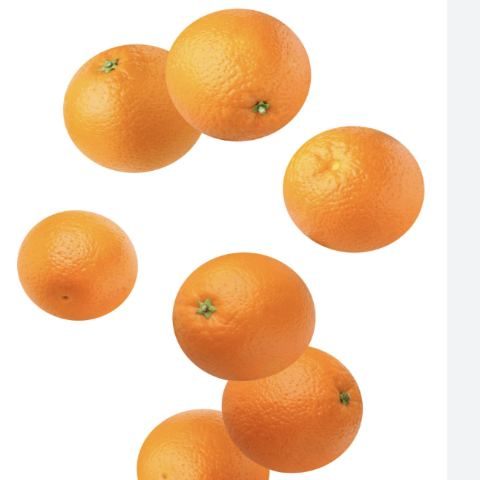orange: (158, 0, 320, 147), (208, 339, 385, 473), (276, 124, 436, 272), (53, 39, 213, 175), (162, 250, 320, 386), (14, 201, 138, 326), (127, 395, 272, 480)
